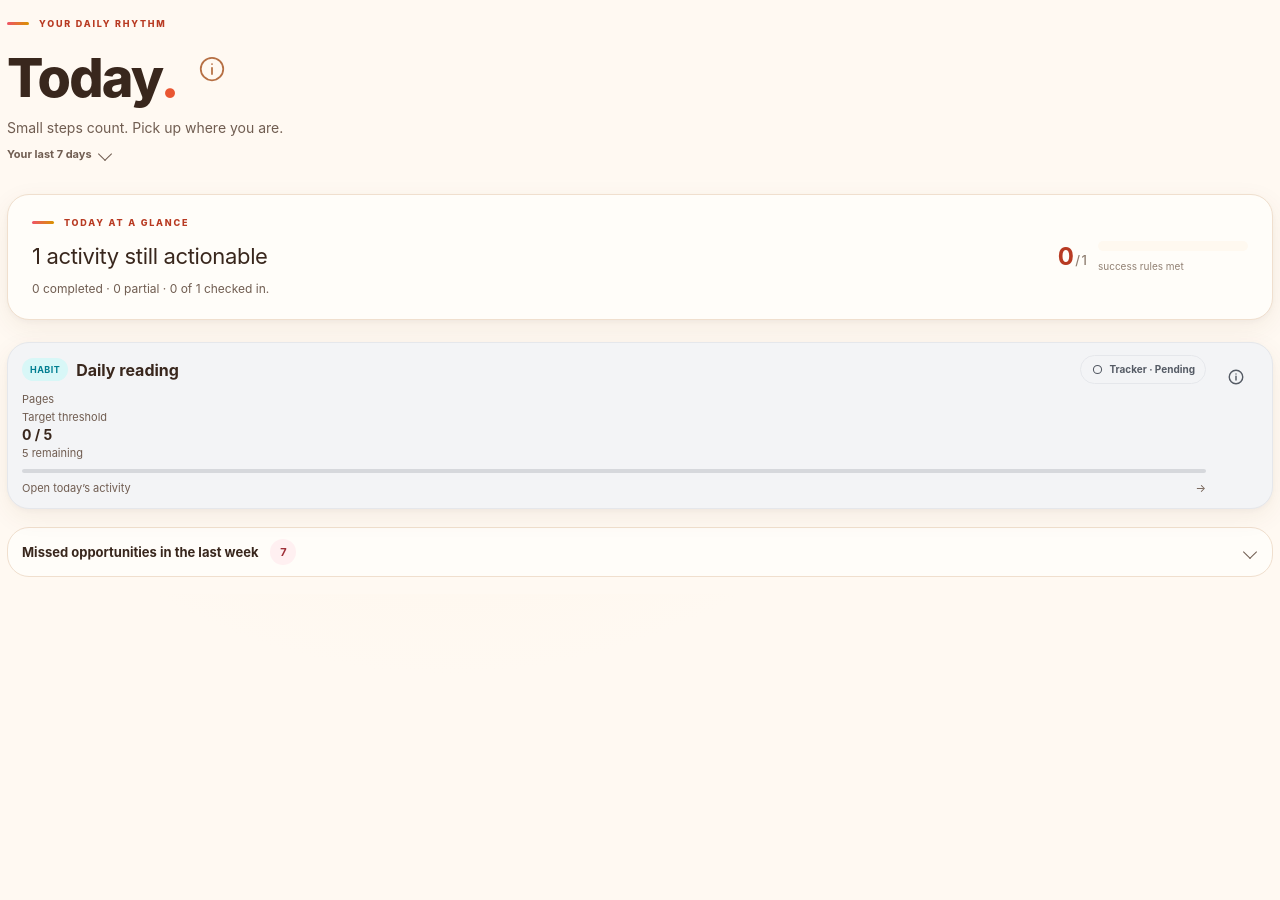
Test: Today check-ins › blocks saving an unfinished numeric draft and leaves the stored check-in unchanged
This screenshot has width=1280, height=900.
Click the button with aria-label "Open Daily reading, Pending" at (614, 426), box [22,355,1206,496]
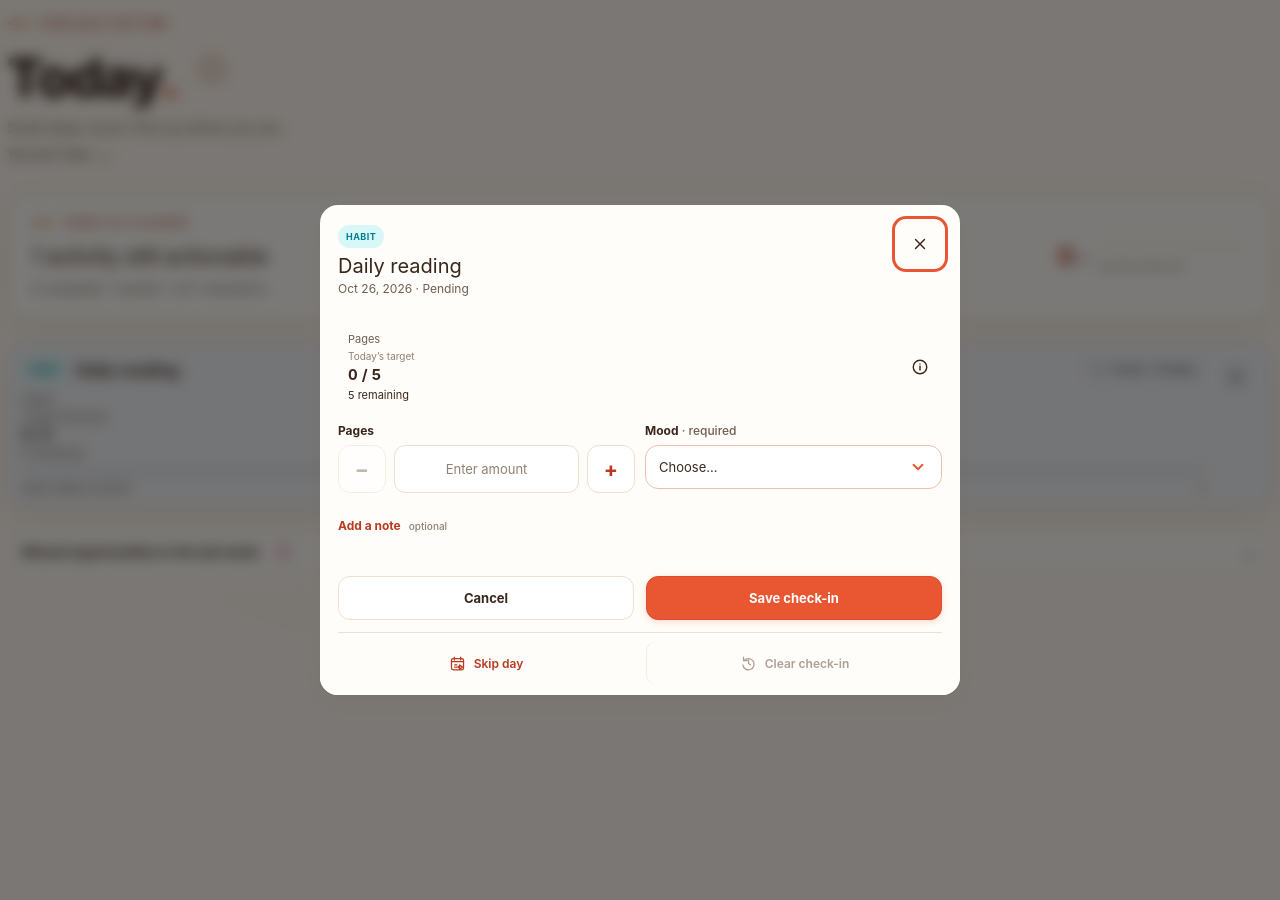
Type "." into the number field labelled "Pages" at (486, 470), box [394,446,579,494]
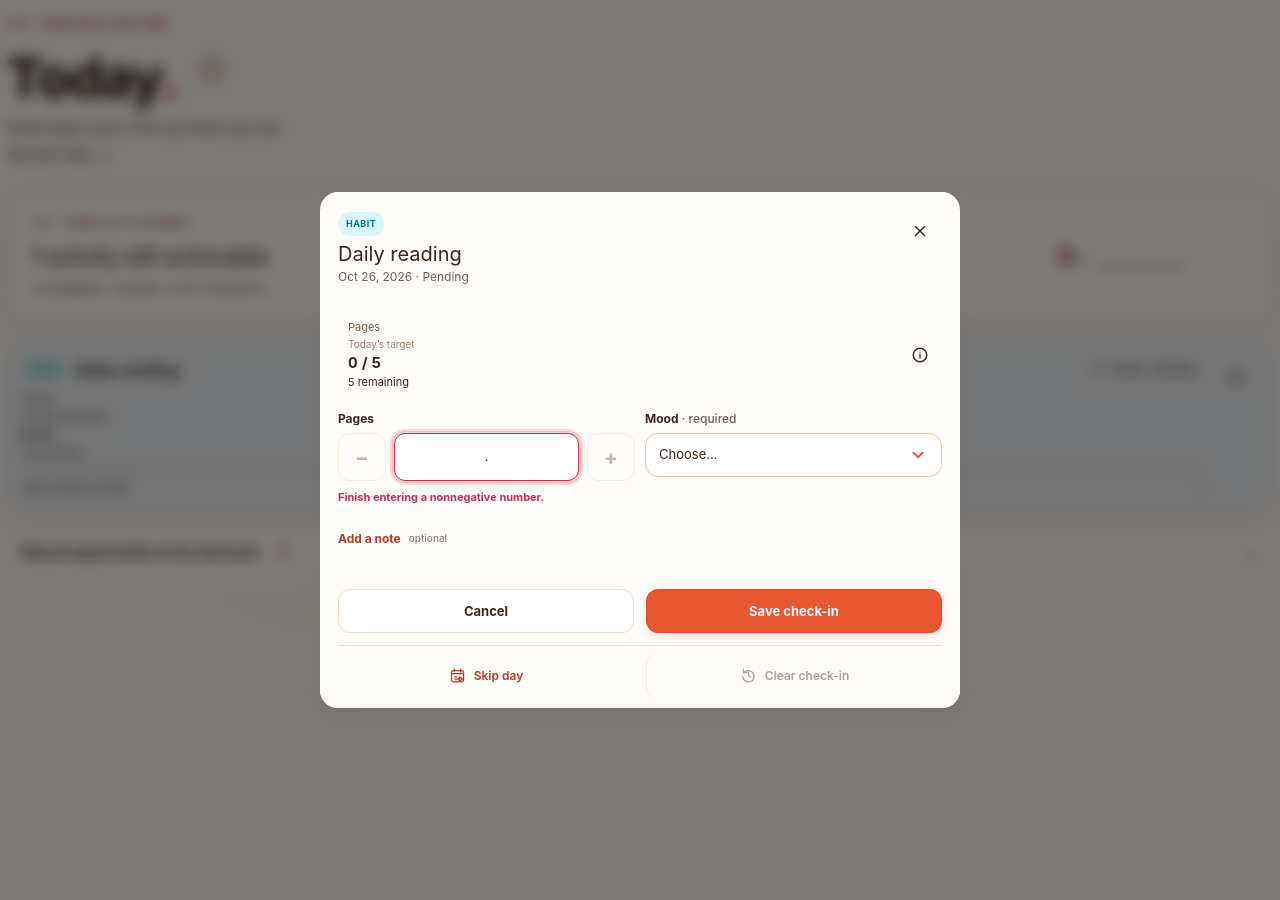
Click the button "Save check-in" at (794, 611), box [646,589,942,633]
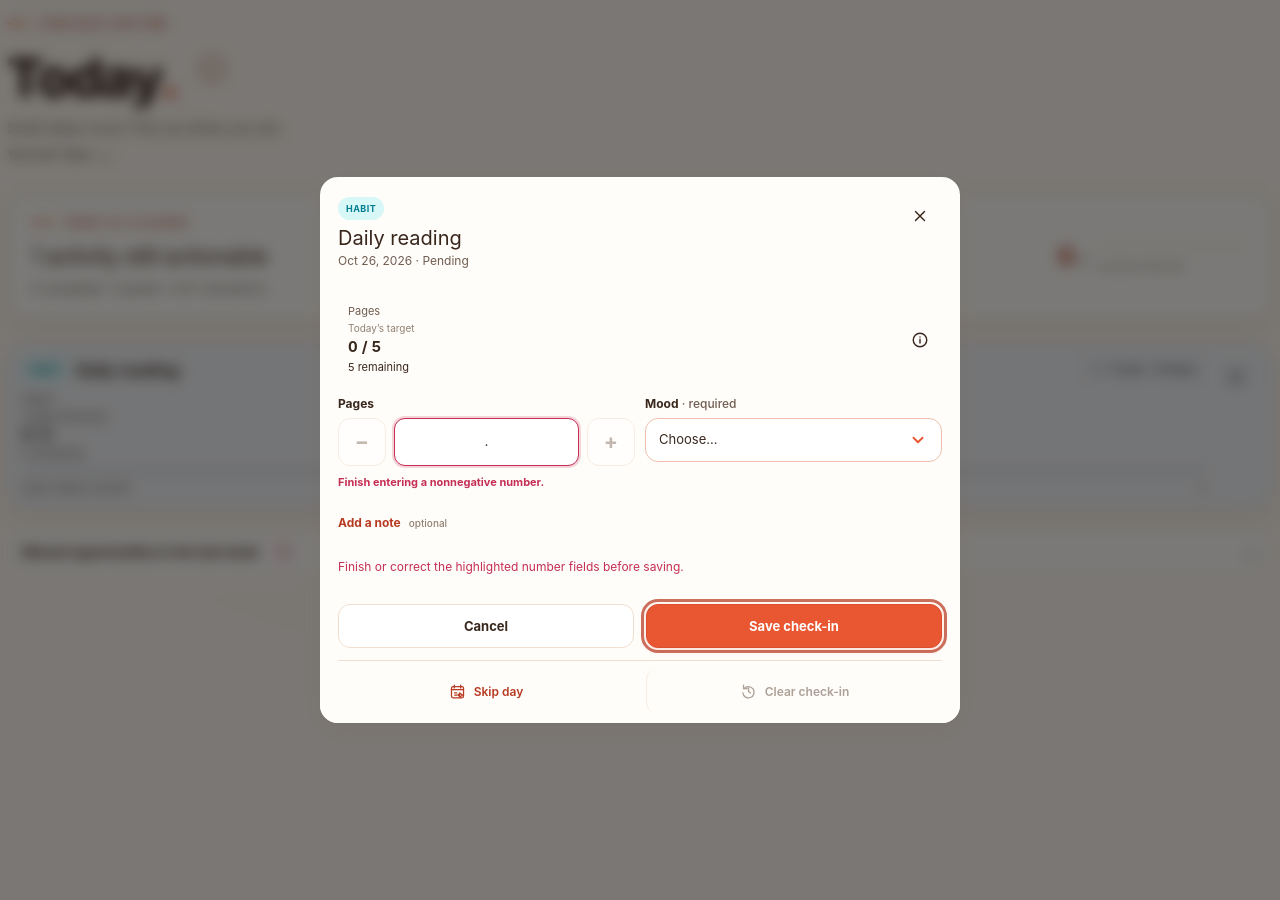
Result: the message shows "correct the highlighted number fields" at [338,559,684,574]
